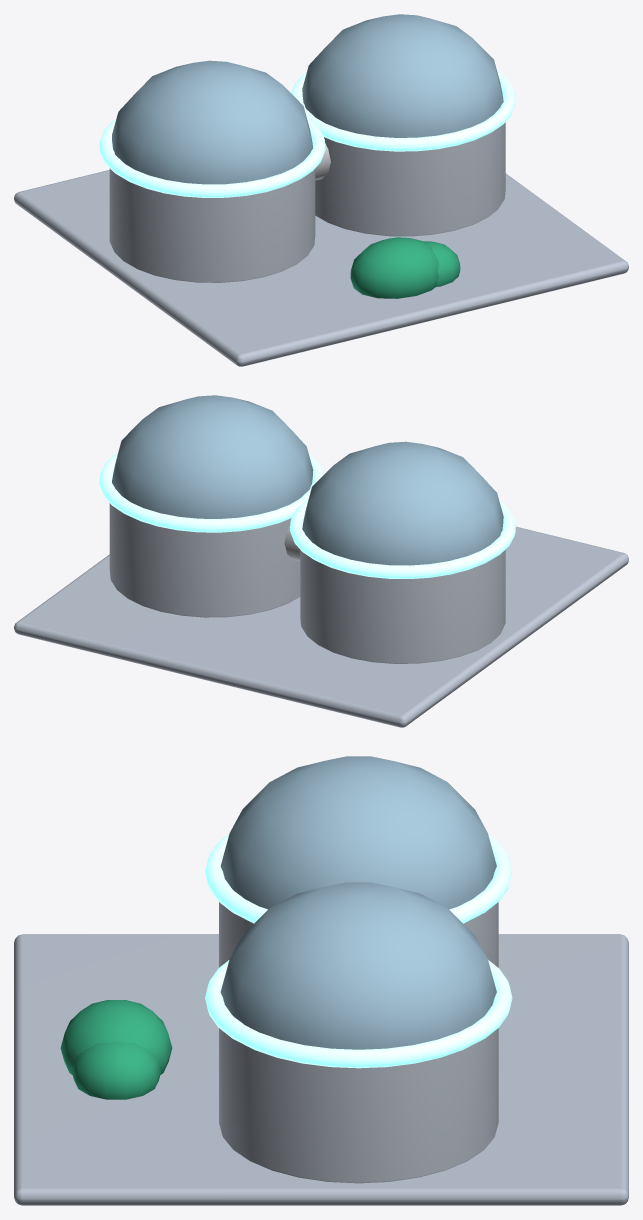
3 views of the same model, one above another, from view 1: azimuth 30°, elevation 25°; view 2: azimuth 150°, elevation 25°; view 3: azimuth 270°, elevation 25° (orthographic). The views are drawn at different scales.
Visible parts, largest first — view 1: Cube; view 2: Cube; view 3: Cube.
Boxes of the visible parts, x1=… form: Cube: x1=14, y1=14, x2=628, y2=366; Cube: x1=14, y1=395, x2=628, y2=727; Cube: x1=14, y1=756, x2=628, y2=1205.
Size of the model in its own units: 0.66 by 0.302 by 0.66.
